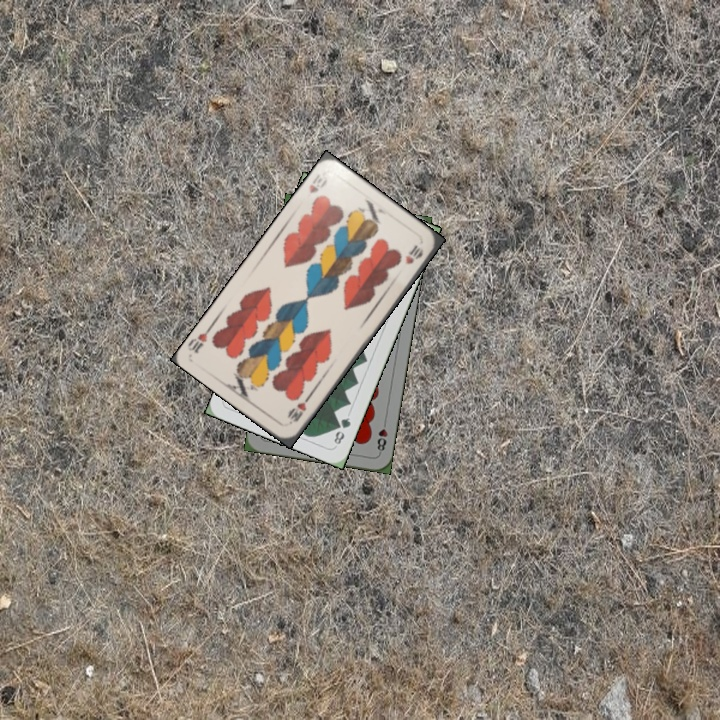G8: (330, 414, 353, 448)
H10: (283, 392, 313, 427), (305, 168, 330, 196)
H8: (373, 416, 390, 456)
